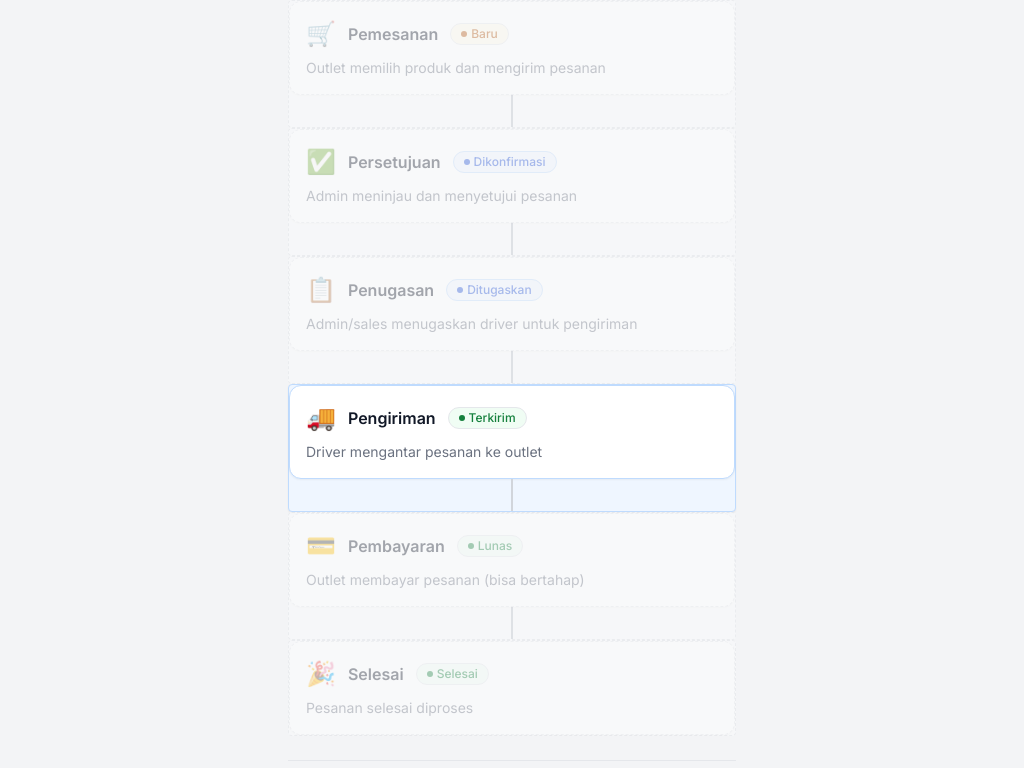
Test: WorktreeFlow — deep link access control › driver can see Buka menu on Pengiriman with href /delivery
Click the element with test id "worktree-node-delivery" at [392, 418], box top-left (306, 403), bottom-right (542, 460)
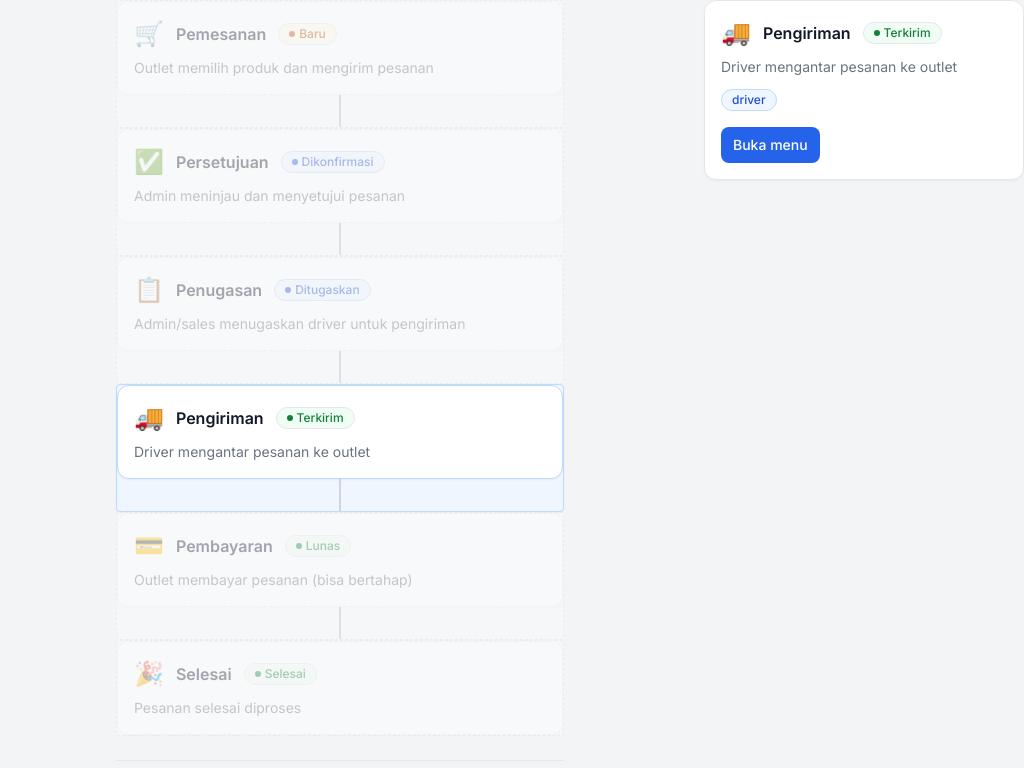
Expected: the link "Buka menu" is shown, top-left (721, 127), bottom-right (820, 163)
